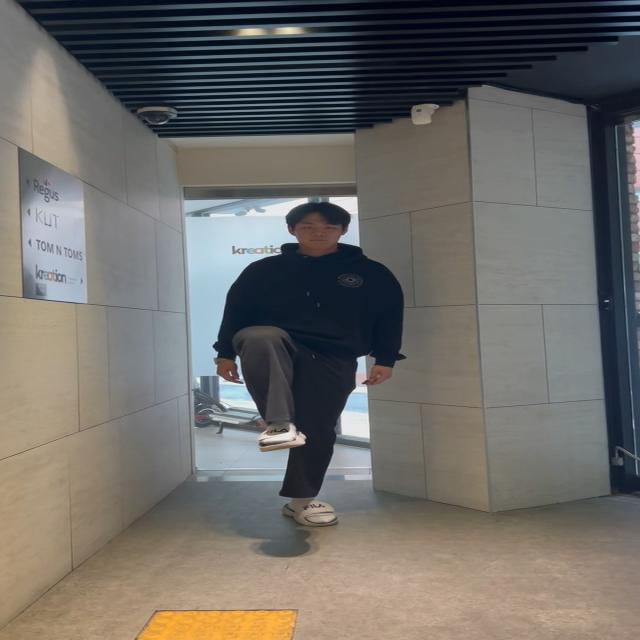knee: (205, 319, 316, 453)
